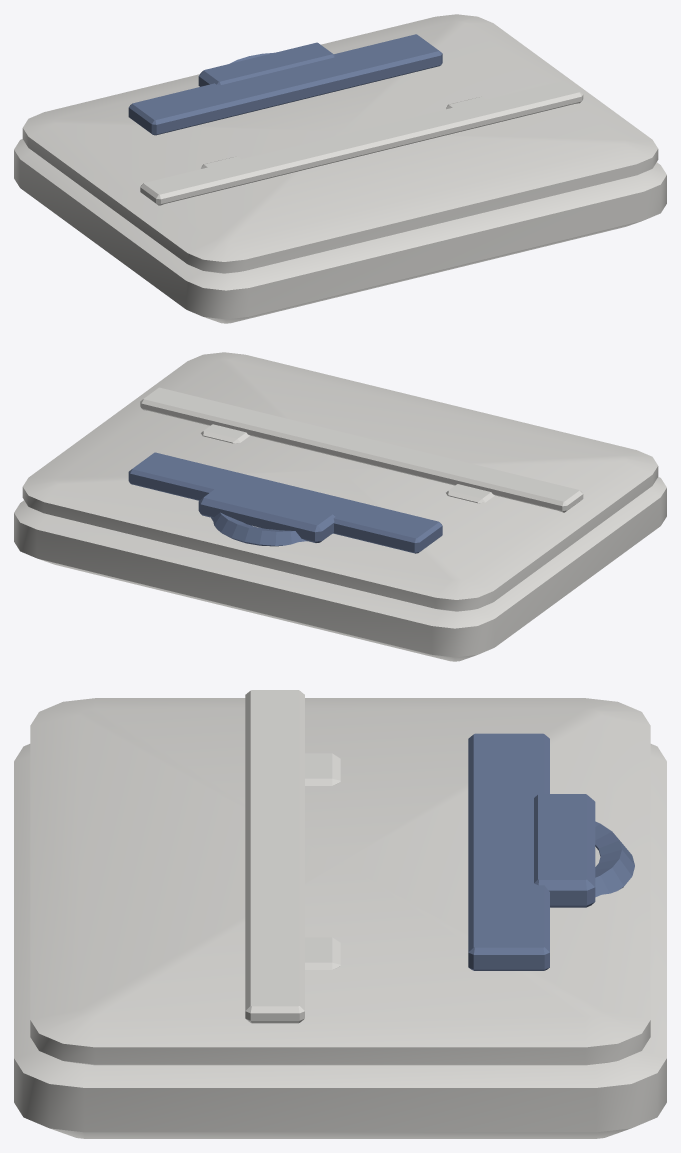
The model's file is clothing-rail-and-wardrobe-shirt-folded-16a055a2__35436.glb.
3 views of the same model, one above another, from view 1: azimuth 30°, elevation 25°; view 2: azimuth 150°, elevation 25°; view 3: azimuth 270°, elevation 25° (orthographic). The views are drawn at different scales.
Parts seen in each view (by area): view 1: shirt-folded; view 2: shirt-folded; view 3: shirt-folded.
Part boxes in pixels (x1,y1,x2,y2): shirt-folded: [14, 14, 666, 323]; shirt-folded: [14, 352, 666, 661]; shirt-folded: [14, 690, 666, 1138].
Bounding box in the file's own units: 0.31 × 0.0595 × 0.24.
